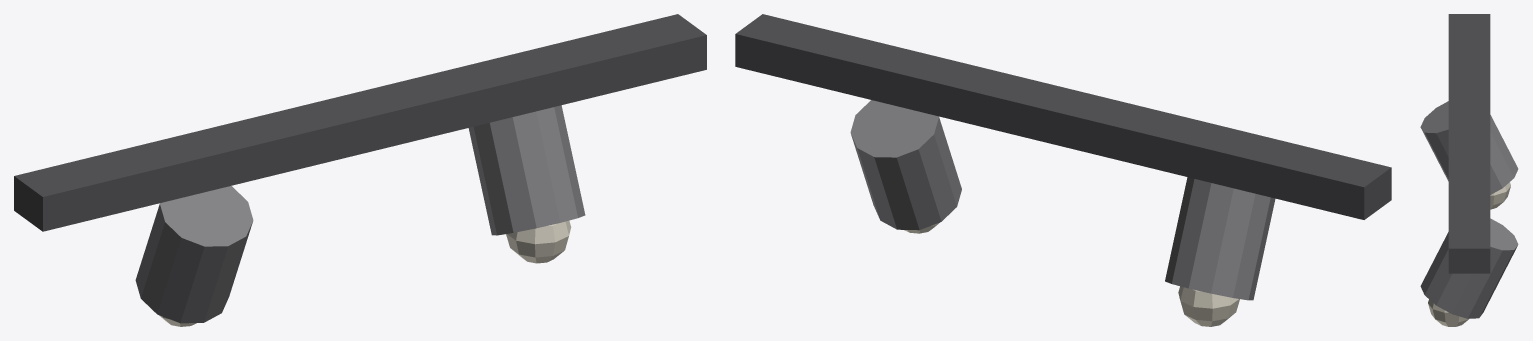
File: ilu_spot_trilho.glb
3 renders of one model, left to right at view 1: azimuth 30°, elevation 25°; view 2: azimuth 150°, elevation 25°; view 3: azimuth 270°, elevation 25°, orthographic. The views are drawn at different scales.
Visible parts, largest first — view 1: ILU_Spot_Trilho_v01; view 2: ILU_Spot_Trilho_v01; view 3: ILU_Spot_Trilho_v01.
Boxes of the visible parts, x1=… form: ILU_Spot_Trilho_v01: x1=14, y1=14, x2=706, y2=326; ILU_Spot_Trilho_v01: x1=735, y1=14, x2=1391, y2=326; ILU_Spot_Trilho_v01: x1=1420, y1=14, x2=1518, y2=326.
Bounding box in the file's own units: 0.8 × 0.215 × 0.1413.
